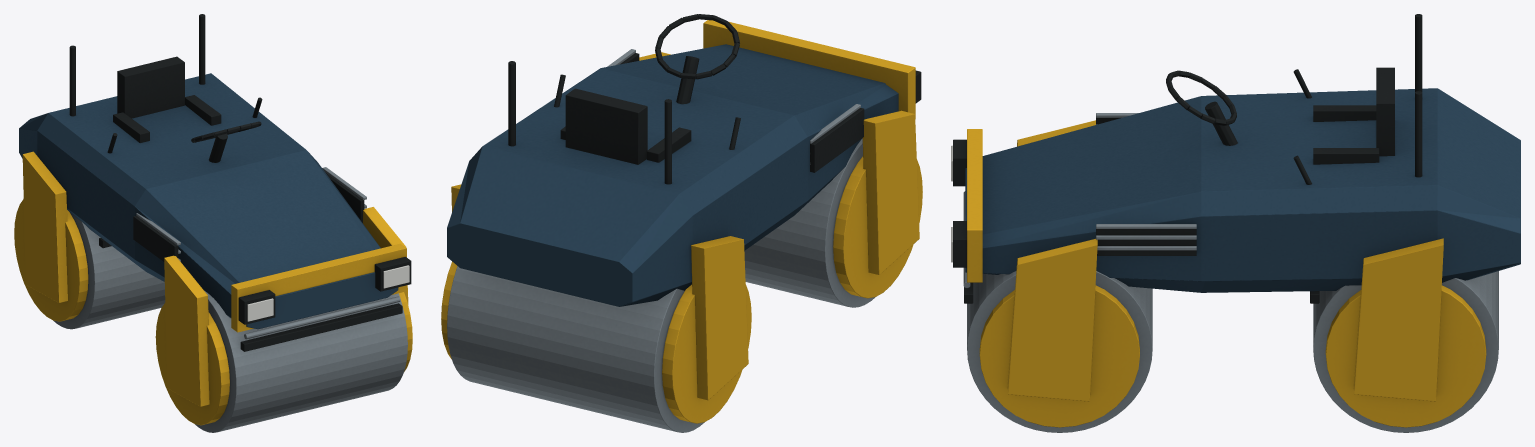
File: road_roller.obj
3 renders of one model, left to right at view 1: azimuth 30°, elevation 25°; view 2: azimuth 150°, elevation 25°; view 3: azimuth 270°, elevation 25°, orthographic. The views are drawn at different scales.
Visible parts, largest first — view 1: road_roller; view 2: road_roller; view 3: road_roller.
Boxes of the visible parts, left/top/right/bottom form: road_roller: left=14, top=14, right=412, bottom=432; road_roller: left=441, top=14, right=922, bottom=432; road_roller: left=951, top=14, right=1520, bottom=432.
Bounding box in the file's own units: 1.88 × 2.3 × 3.62.
1 material, 1 textured.
